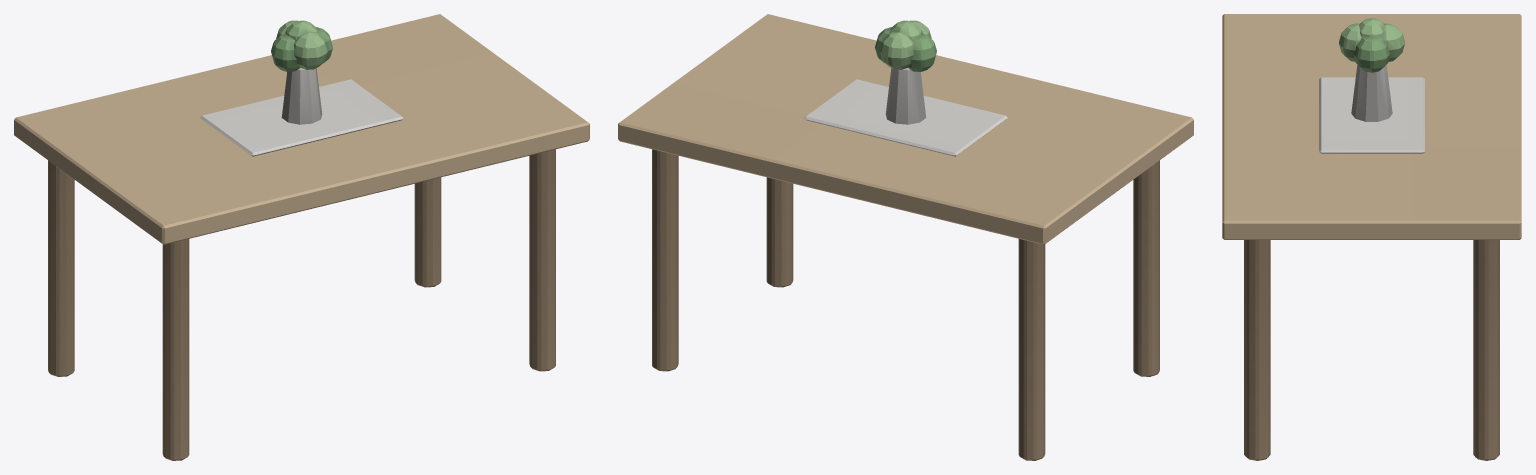
File: furn_dining_table__oak.glb
3 renders of one model, left to right at view 1: azimuth 30°, elevation 25°; view 2: azimuth 150°, elevation 25°; view 3: azimuth 270°, elevation 25°, orthographic.
Bounding box in the file's own units: 1.4 × 1.09 × 0.85.
